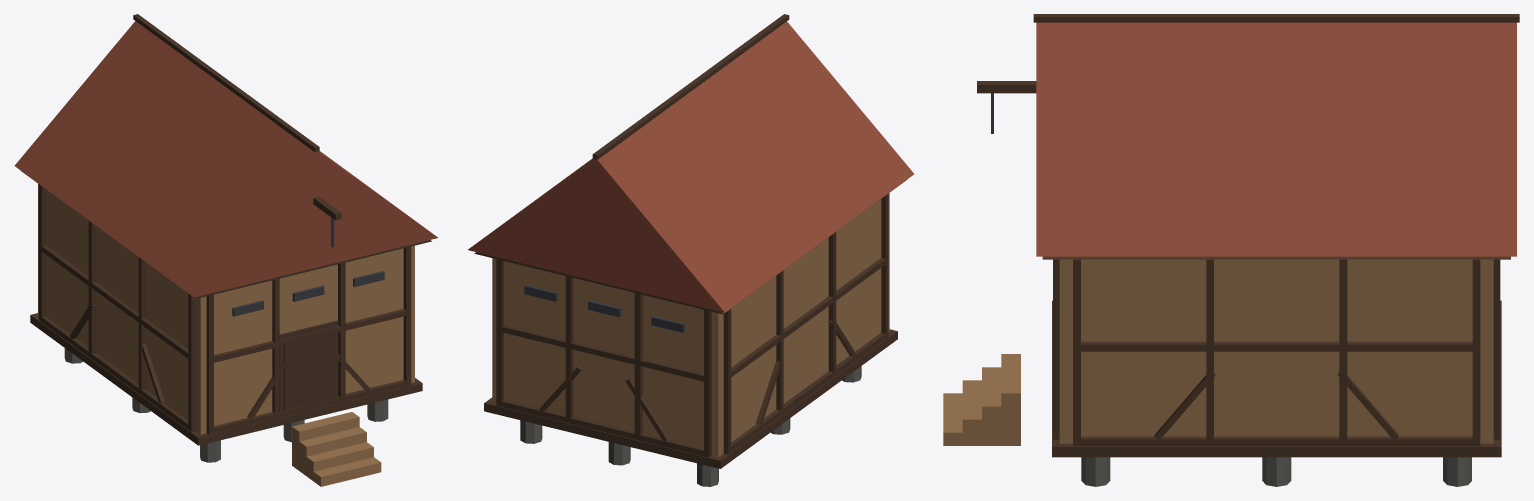
File: granary.glb
The picture shows the model from 3 angles, left to right: view 1: azimuth 30°, elevation 25°; view 2: azimuth 150°, elevation 25°; view 3: azimuth 270°, elevation 25°; orthographic projection. The views are drawn at different scales.
Parts seen in each view (by area): view 1: granary_lod0; view 2: granary_lod0; view 3: granary_lod0.
Part boxes in pixels (x1,y1,x2,y2): granary_lod0: [14, 14, 438, 486]; granary_lod0: [468, 14, 914, 486]; granary_lod0: [943, 14, 1519, 486].
Size of what is drawn, in the model's own units: 7.3 by 8.77 by 11.15.
